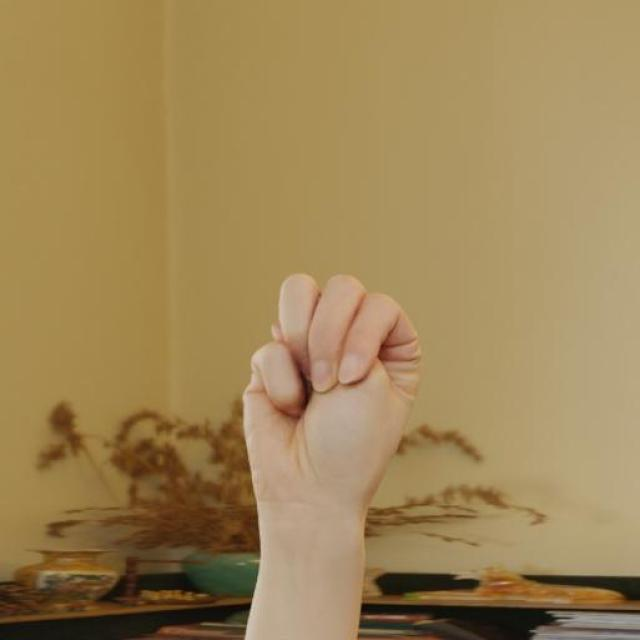M: (242, 270, 424, 515)
